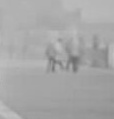person: (66, 37, 80, 73), (51, 39, 66, 72), (46, 41, 57, 76)
